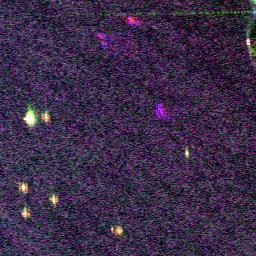Ship: (24, 105, 36, 127), (18, 207, 34, 220), (110, 224, 124, 236), (16, 183, 31, 194), (41, 110, 49, 126), (48, 194, 59, 205), (244, 36, 253, 48), (184, 146, 190, 159)
